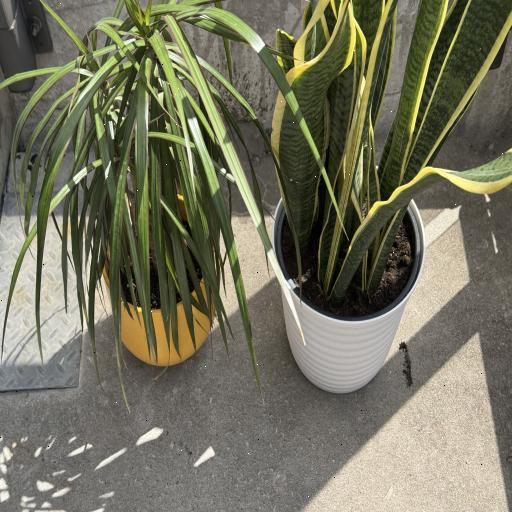Plant Pot: (271, 161, 425, 397), (102, 190, 216, 365)
